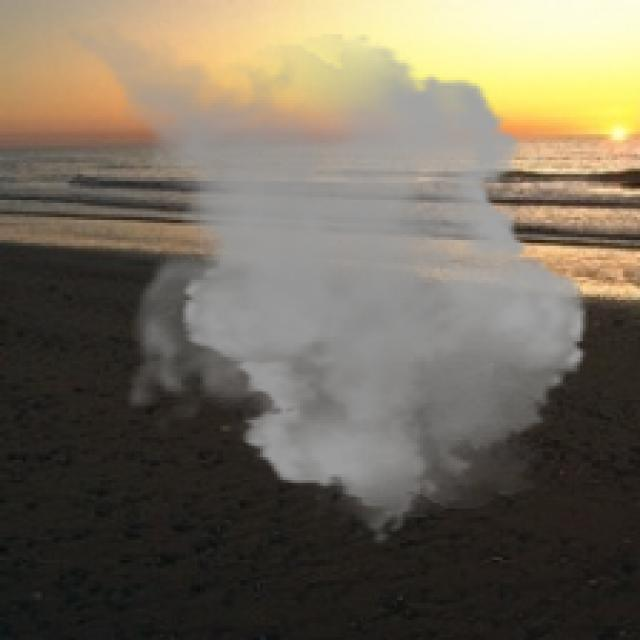Smoke: (37, 14, 603, 546)
